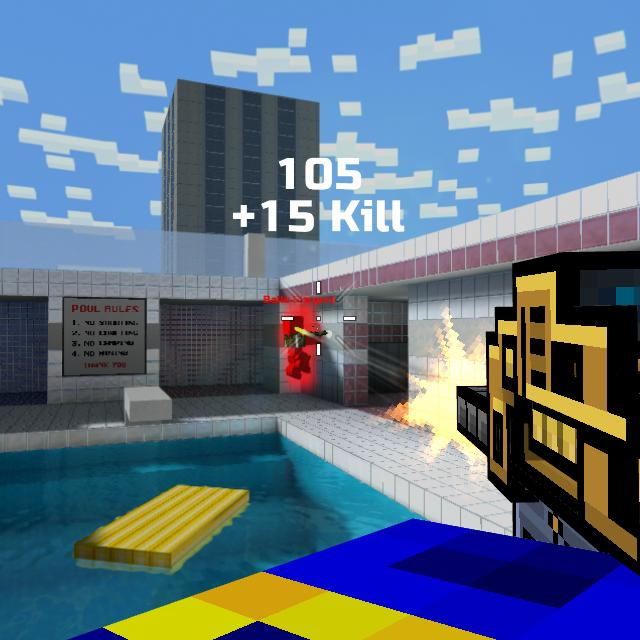Enemy: (282, 317, 317, 379)
